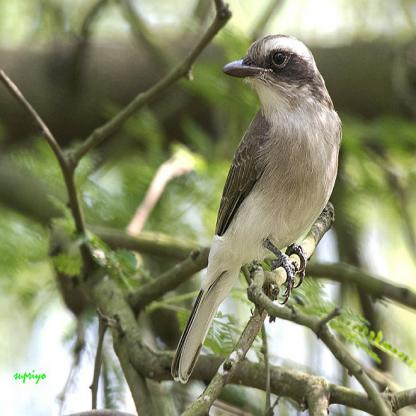Burung: (170, 35, 340, 384)
